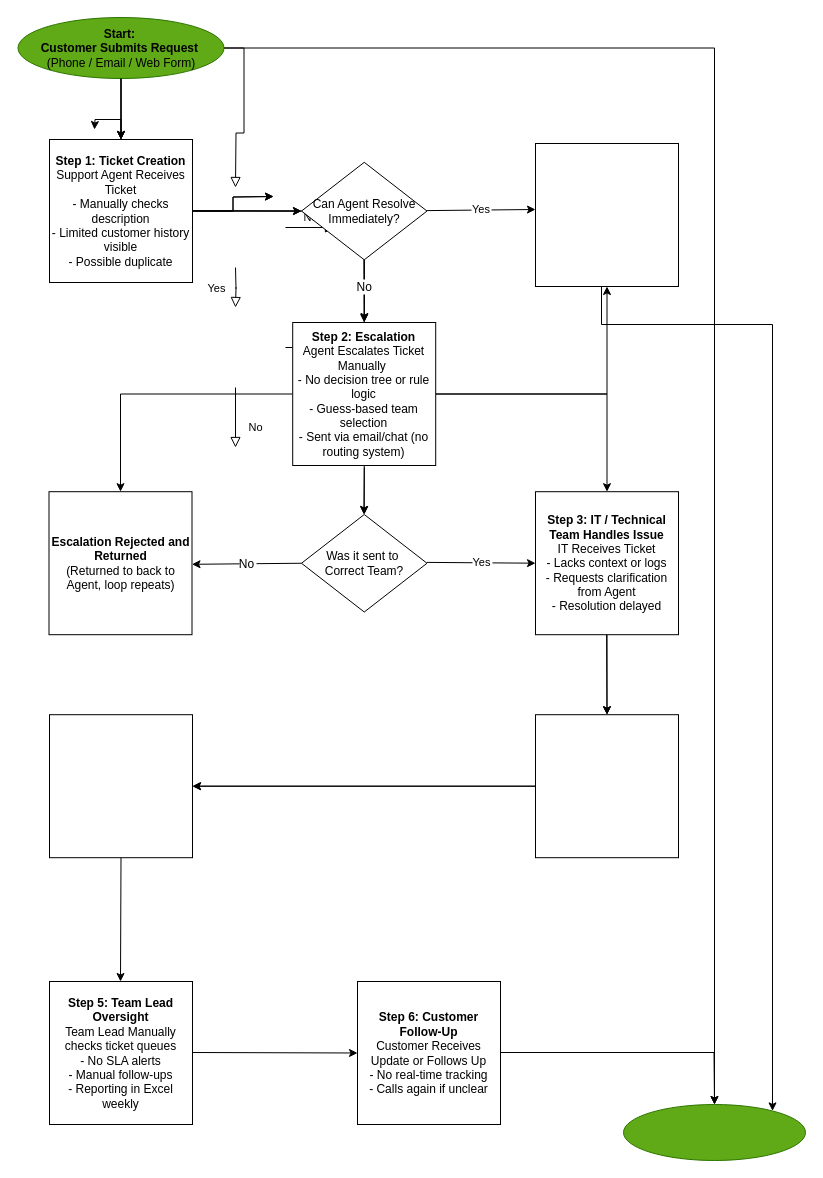
This 823x1178 diagram has some shape labels left out. Here are the shapes that lost their labels. From the top down, the centre of each, then its label:
At [606,214]: "Agent Resolves Issue (Responds directly to customer)".
At [120,786]: "Agent Closes ticket (Sends generic response to customer)".
At [606,786]: "Step 4: Resolution Sent to Agent IT Resolves and Sends Back to Agent".
At [714,1132]: "End: Ticket Closed or Re-looped".
